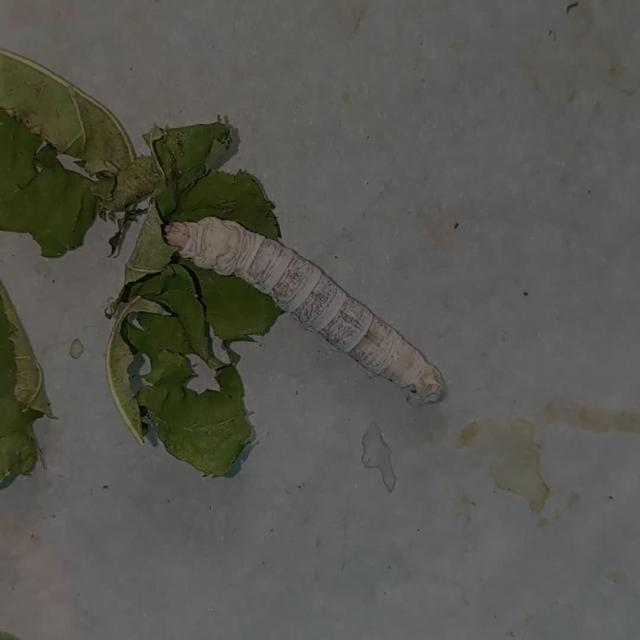Grasserie: (160, 212, 455, 421)
